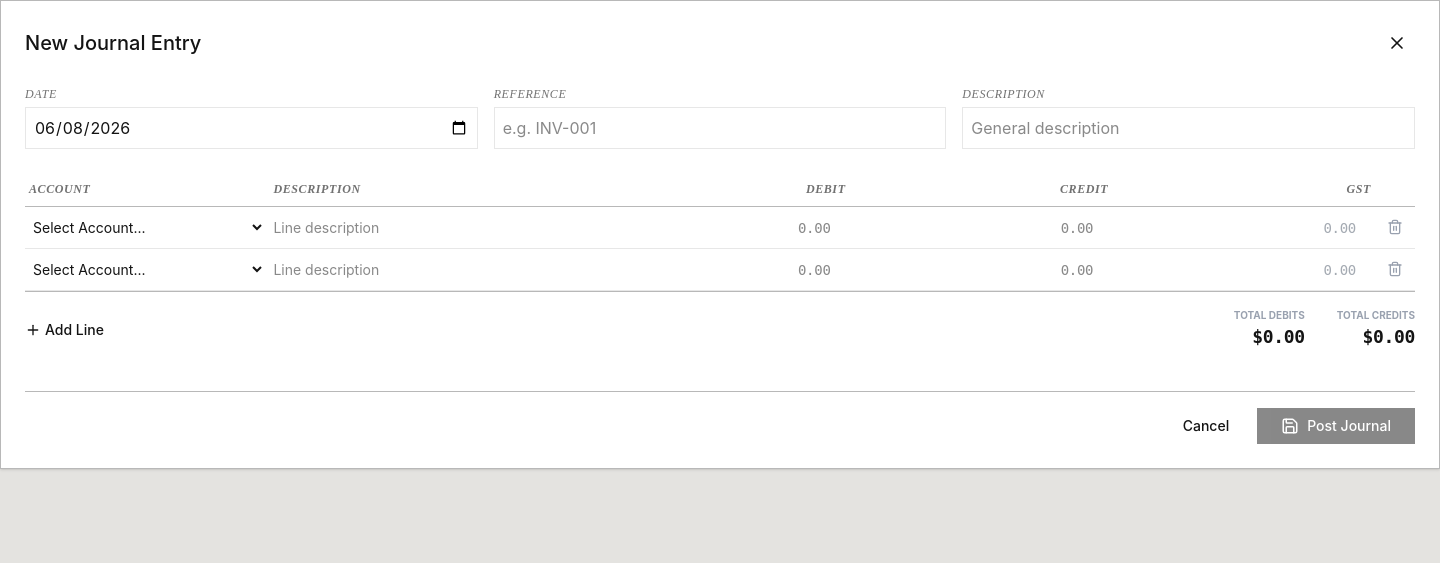
JournalForm — Plan 06-3 inline AnomalyBadge + mobile layout (UX-02 + UX-04) › JF.5: unbalanced lines — anomaly-badge with "unbalanced" message appears after interaction
Type "100" into the 1st number field with placeholder "0.00" at (718, 228), box [591,218,846,238]
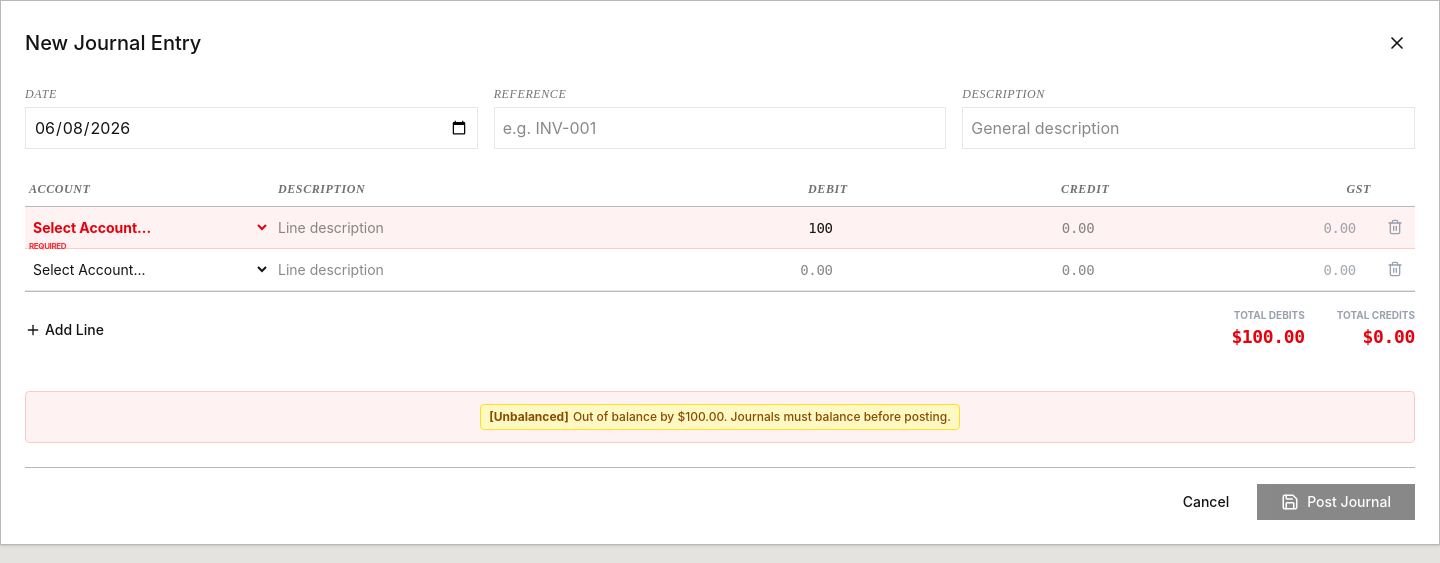
Check: the text "Out of balance" is shown, box [573,409,951,424]
